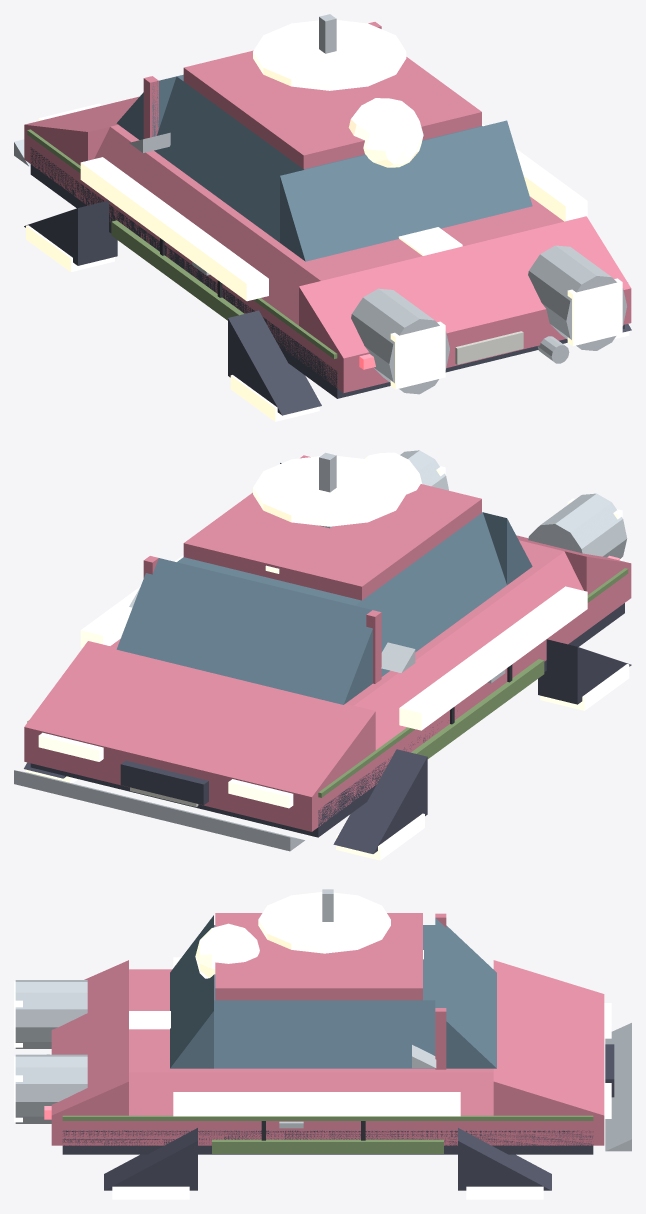
File: plasma_pacer.glb
The picture shows the model from 3 angles, top to bottom: view 1: azimuth 30°, elevation 25°; view 2: azimuth 150°, elevation 25°; view 3: azimuth 270°, elevation 25°; orthographic projection. The views are drawn at different scales.
Visible parts, largest first — view 1: RearWindow.201, Tail.101, Roof.301, CabinSideL.098, Body.301, ShoulderL.098, HaloRing.012, FloatFin-1.043, BodyUpper.098, Sill.297, HoverPodWheel_RL.043, Thruster1.043 (+17 smaller); view 2: Nose.098, Windshield.201, Roof.301, Body.301, CabinSideL.098, ShoulderL.098, HaloRing.012, FloatFin-1.043, HoverPodWheel_FL.043, Bumper.297, Thruster-1.043, Sill.297 (+18 smaller); view 3: Nose.098, CabinSideR.098, Roof.301, Body.301, ShoulderR.098, Tail.101, FloatFin1.043, Windshield.201, HaloRing.012, Sill.297, BodyUpper.098, RearWindow.201 (+15 smaller).
Part boxes in pixels (bbox=[...]): RearWindow.201: bbox=[280, 120, 532, 261]; Tail.101: bbox=[299, 216, 630, 358]; Roof.301: bbox=[183, 50, 481, 169]; CabinSideL.098: bbox=[154, 76, 303, 242]; Body.301: bbox=[24, 125, 631, 392]; ShoulderL.098: bbox=[94, 127, 320, 325]; HaloRing.012: bbox=[253, 20, 406, 90]; FloatFin-1.043: bbox=[80, 157, 268, 301]; BodyUpper.098: bbox=[110, 124, 563, 280]; Sill.297: bbox=[30, 147, 624, 398]; HoverPodWheel_RL.043: bbox=[228, 310, 321, 415]; Thruster1.043: bbox=[528, 245, 626, 350]; Nose.098: bbox=[24, 641, 375, 796]; Windshield.201: bbox=[116, 558, 372, 704]; Roof.301: bbox=[183, 455, 481, 600]; Body.301: bbox=[24, 564, 631, 831]; CabinSideL.098: bbox=[355, 512, 506, 676]; ShoulderL.098: bbox=[354, 551, 583, 749]; HaloRing.012: bbox=[253, 456, 406, 526]; FloatFin-1.043: bbox=[399, 586, 587, 730]; HoverPodWheel_FL.043: bbox=[333, 749, 427, 853]; Bumper.297: bbox=[14, 770, 304, 851]; Thruster-1.043: bbox=[528, 493, 627, 558]; Sill.297: bbox=[30, 603, 624, 837]; Nose.098: bbox=[493, 960, 604, 1115]; CabinSideR.098: bbox=[214, 1000, 435, 1068]; Roof.301: bbox=[215, 913, 422, 1000]; Body.301: bbox=[51, 1115, 604, 1145]; ShoulderR.098: bbox=[129, 1072, 493, 1115]; Tail.101: bbox=[51, 960, 128, 1115]; FloatFin1.043: bbox=[173, 1092, 460, 1116]; Windshield.201: bbox=[435, 918, 496, 1068]; HaloRing.012: bbox=[258, 892, 390, 953]; Sill.297: bbox=[62, 1130, 593, 1154]; BodyUpper.098: bbox=[129, 969, 493, 1072]; RearWindow.201: bbox=[170, 915, 213, 1068].
Bounding box in the file's own units: 3.2 × 2.33 × 5.59.
